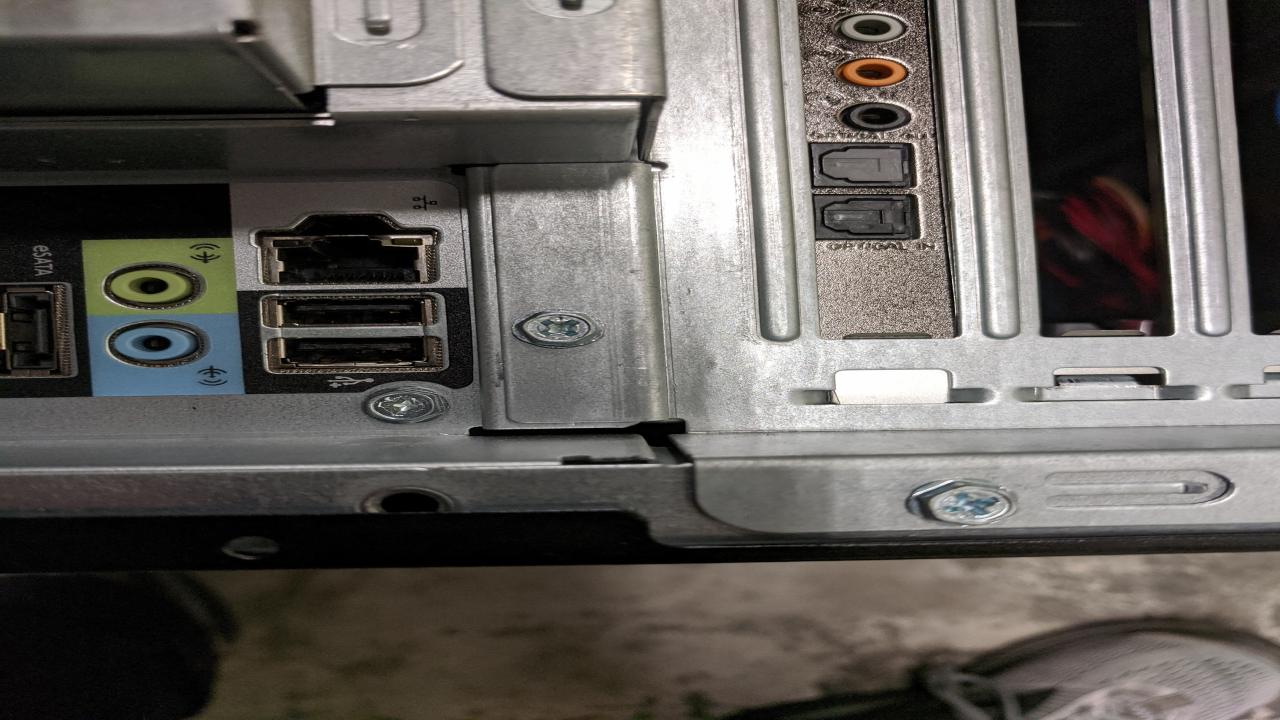CRS: (911, 482, 1014, 525), (513, 310, 599, 346), (361, 387, 443, 421)
